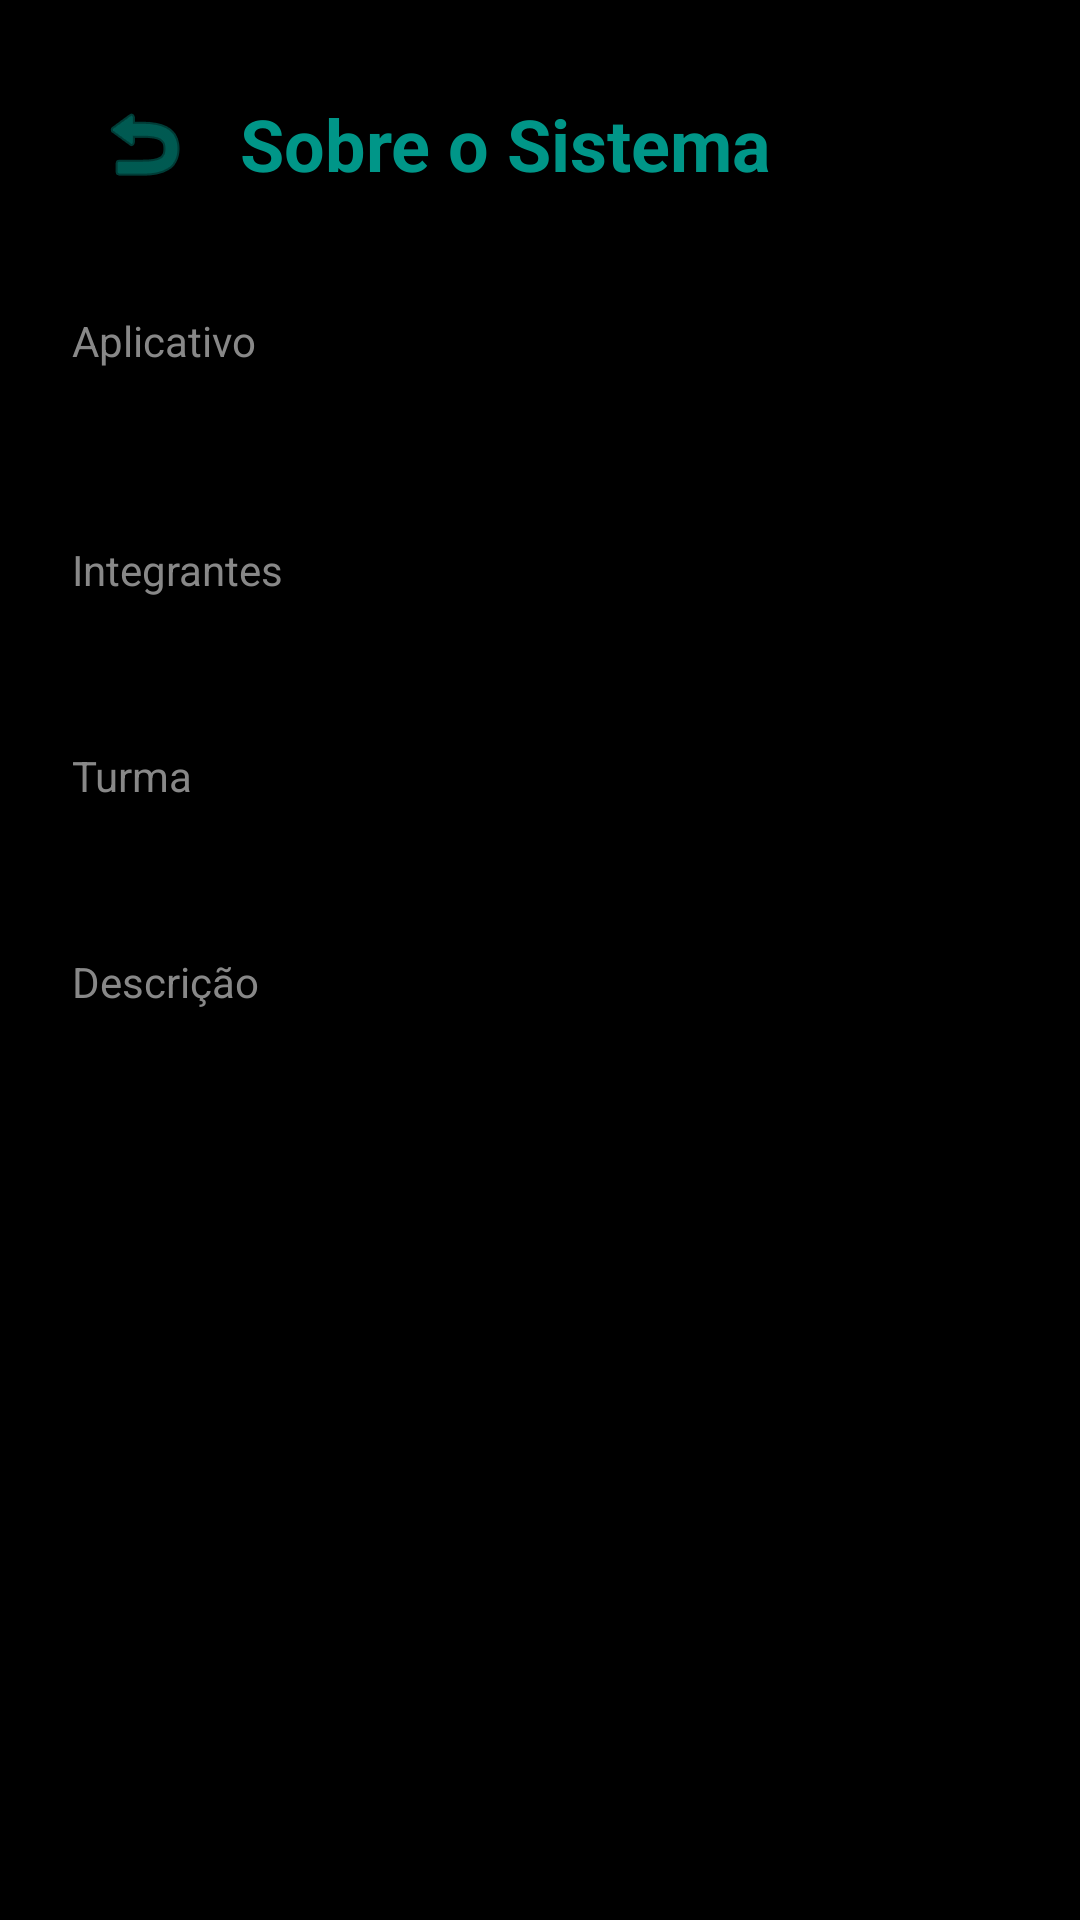

Icons on this 1080*1920 Android screen, each with the point to tap as point (x, y):
Voltar: point (145, 145)
